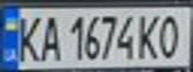1: (63, 11, 84, 61)
4: (115, 11, 139, 61)
6: (81, 11, 103, 61)
7: (96, 11, 121, 61)
A: (36, 11, 63, 62)
K: (12, 11, 45, 63), (136, 11, 163, 61)
O: (154, 10, 187, 60)
